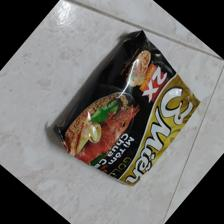3mien: (54, 29, 201, 185)
